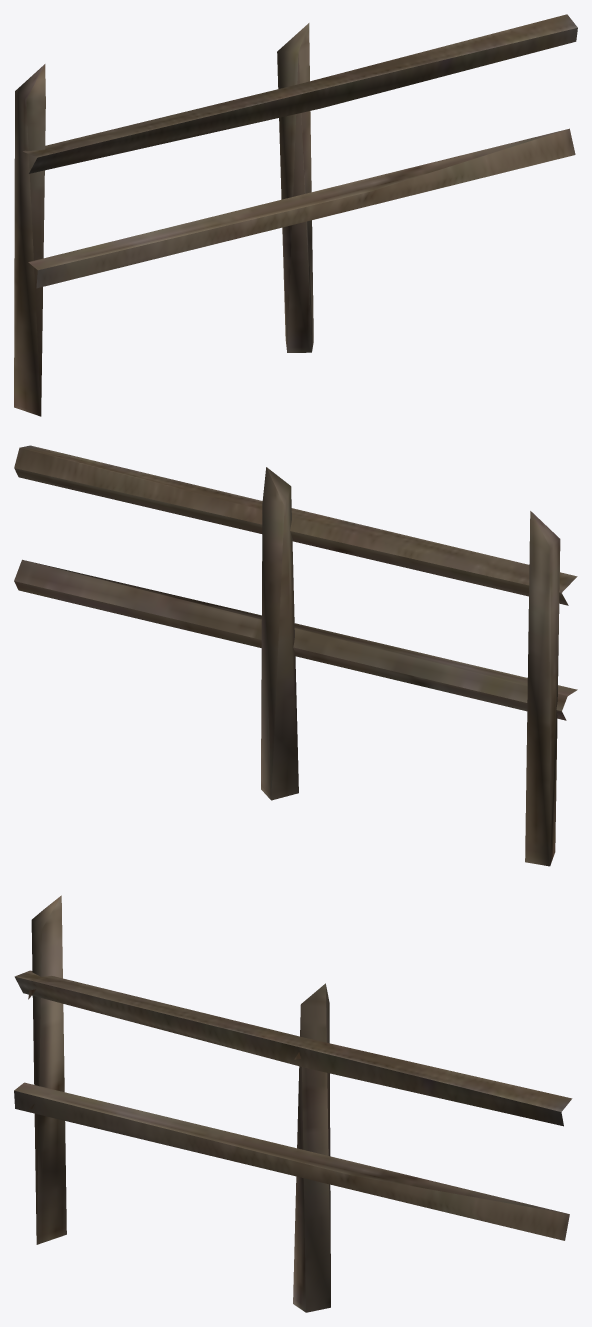
The model's file is fence_lod2.glb.
The picture shows the model from 3 angles, top to bottom: view 1: azimuth 30°, elevation 25°; view 2: azimuth 150°, elevation 25°; view 3: azimuth 330°, elevation 25°; orthographic projection.
Visible parts, largest first — view 1: fence; view 2: fence; view 3: fence.
Part boxes in pixels (box(x1,y1,x2,y2)): fence: box(14, 14, 577, 416); fence: box(14, 445, 577, 866); fence: box(14, 895, 572, 1312).
Size of the model in its own units: 2 by 1.21 by 0.2071.
1 material, 1 textured.
